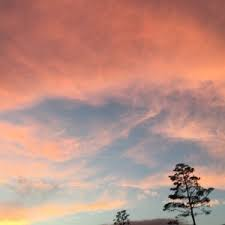sky: (2, 1, 222, 222)
tree: (166, 160, 209, 224)
